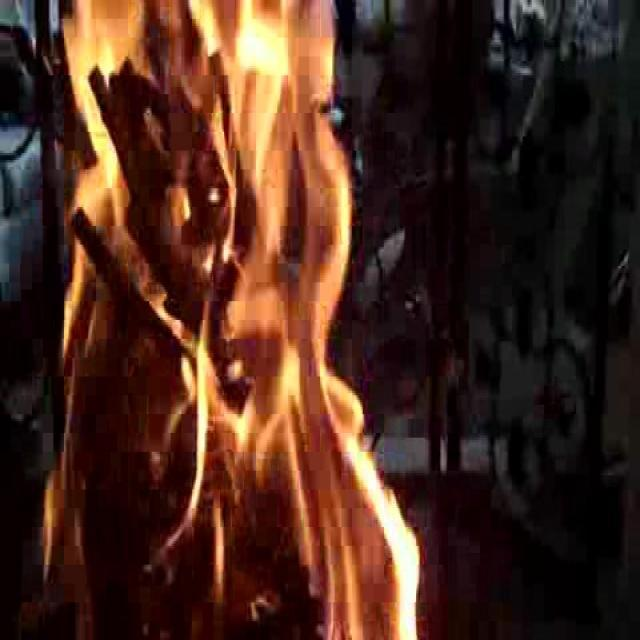Fire: (58, 7, 358, 630)
